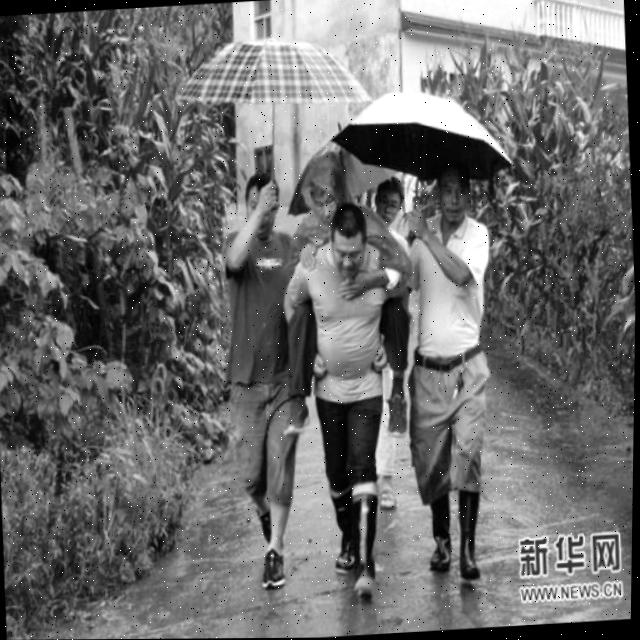civilian: (196, 161, 332, 633), (280, 196, 426, 632), (266, 129, 424, 491), (396, 161, 514, 622), (367, 168, 409, 245)
